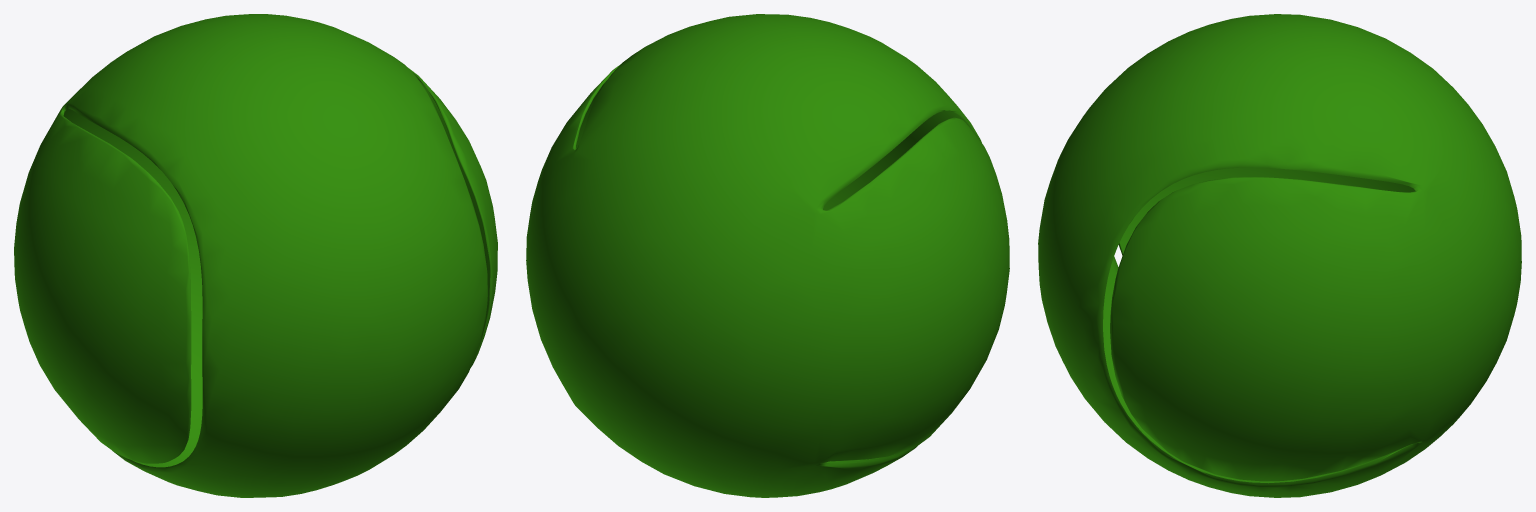
The model's file is ball_green.glb.
3 renders of one model, left to right at view 1: azimuth 30°, elevation 25°; view 2: azimuth 150°, elevation 25°; view 3: azimuth 270°, elevation 25°, orthographic.
Parts seen in each view (by area): view 1: ball_green; view 2: ball_green; view 3: ball_green.
Boxes of the visible parts, <box> form: ball_green: <box>14,14,497,497</box>; ball_green: <box>526,14,1009,497</box>; ball_green: <box>1038,14,1521,497</box>.
Bounding box in the file's own units: 0.066 × 0.066 × 0.066.
